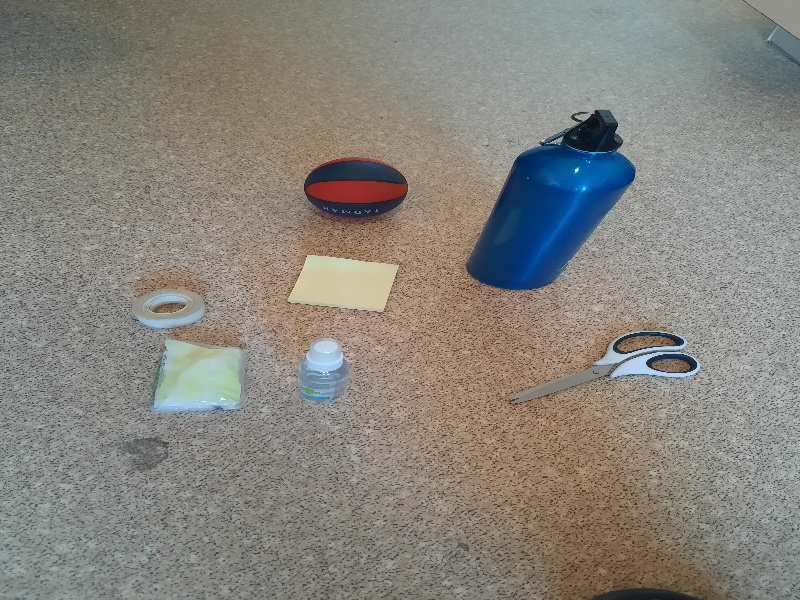ballon: (302, 158, 410, 220)
ciseaux: (505, 330, 700, 408)
gel: (293, 337, 352, 401)
gourde: (463, 107, 638, 292)
mouchoirs: (148, 337, 247, 414)
post-it: (285, 254, 402, 313)
scotch: (130, 291, 206, 328)
